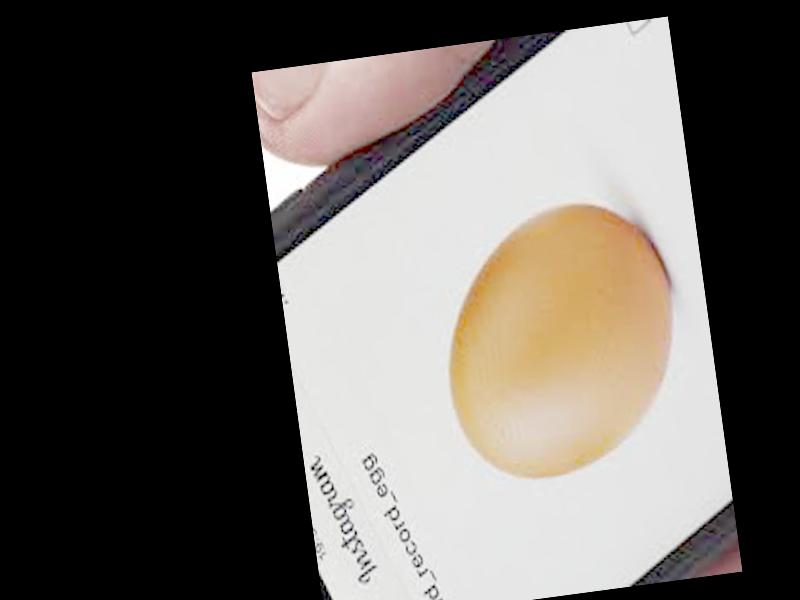Eggs: (428, 193, 691, 488)
